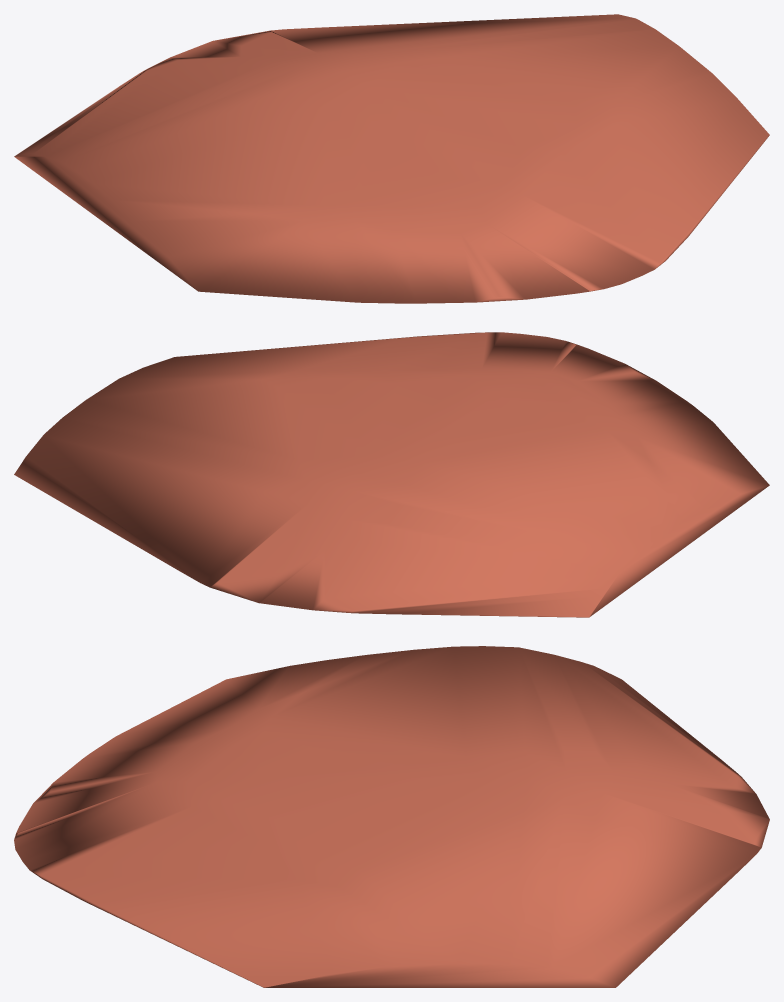
File: bee_toy_1_coacd_single_link_urdf_convex_piece_9.obj
3 views of the same model, one above another, from view 1: azimuth 30°, elevation 25°; view 2: azimuth 150°, elevation 25°; view 3: azimuth 270°, elevation 25° (orthographic). The views are drawn at different scales.
Bounding box in the file's own units: 0.0602 × 0.00466 × 0.0624.
